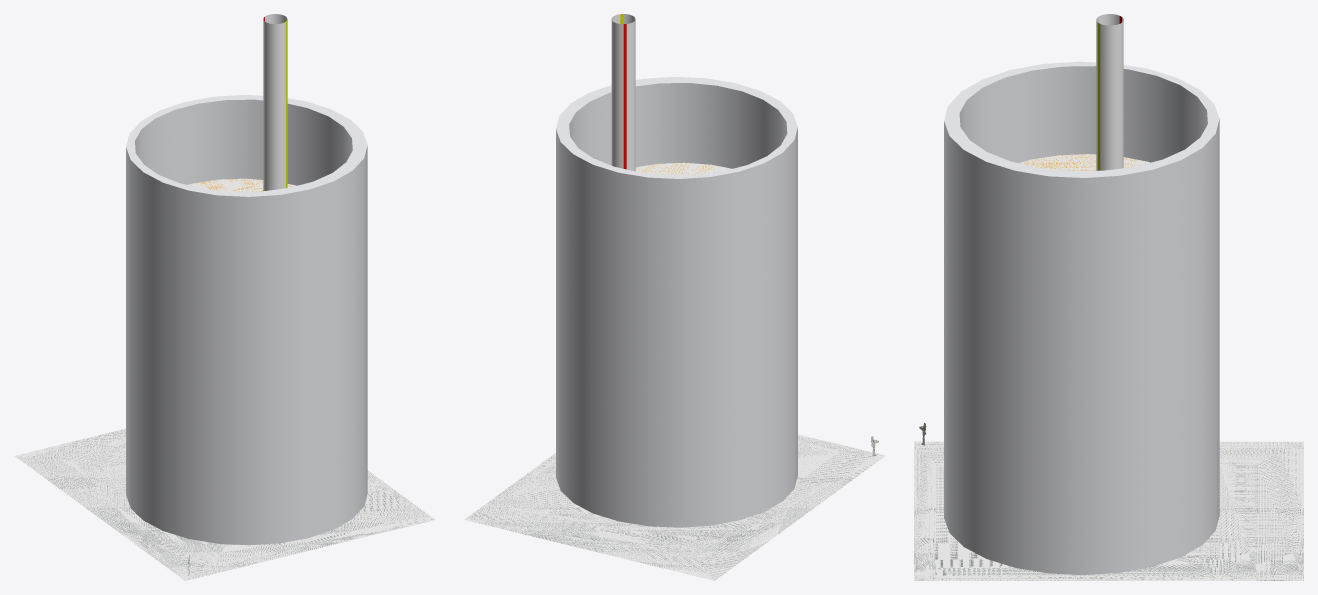
3 renders of one model, left to right at view 1: azimuth 30°, elevation 25°; view 2: azimuth 150°, elevation 25°; view 3: azimuth 270°, elevation 25°, orthographic. The views are drawn at different scales.
Visible parts, largest first — view 1: SketchUp (×5); view 2: SketchUp (×7); view 3: SketchUp (×6).
Boxes of the visible parts, left/top/right/bottom form: SketchUp (×5): left=15, top=19, right=434, bottom=580; SketchUp (×7): left=464, top=14, right=885, bottom=580; SketchUp (×6): left=914, top=14, right=1303, bottom=580.
Bounding box in the file's own units: 868 × 1027 × 1511.
18 materials, 2 textured.
